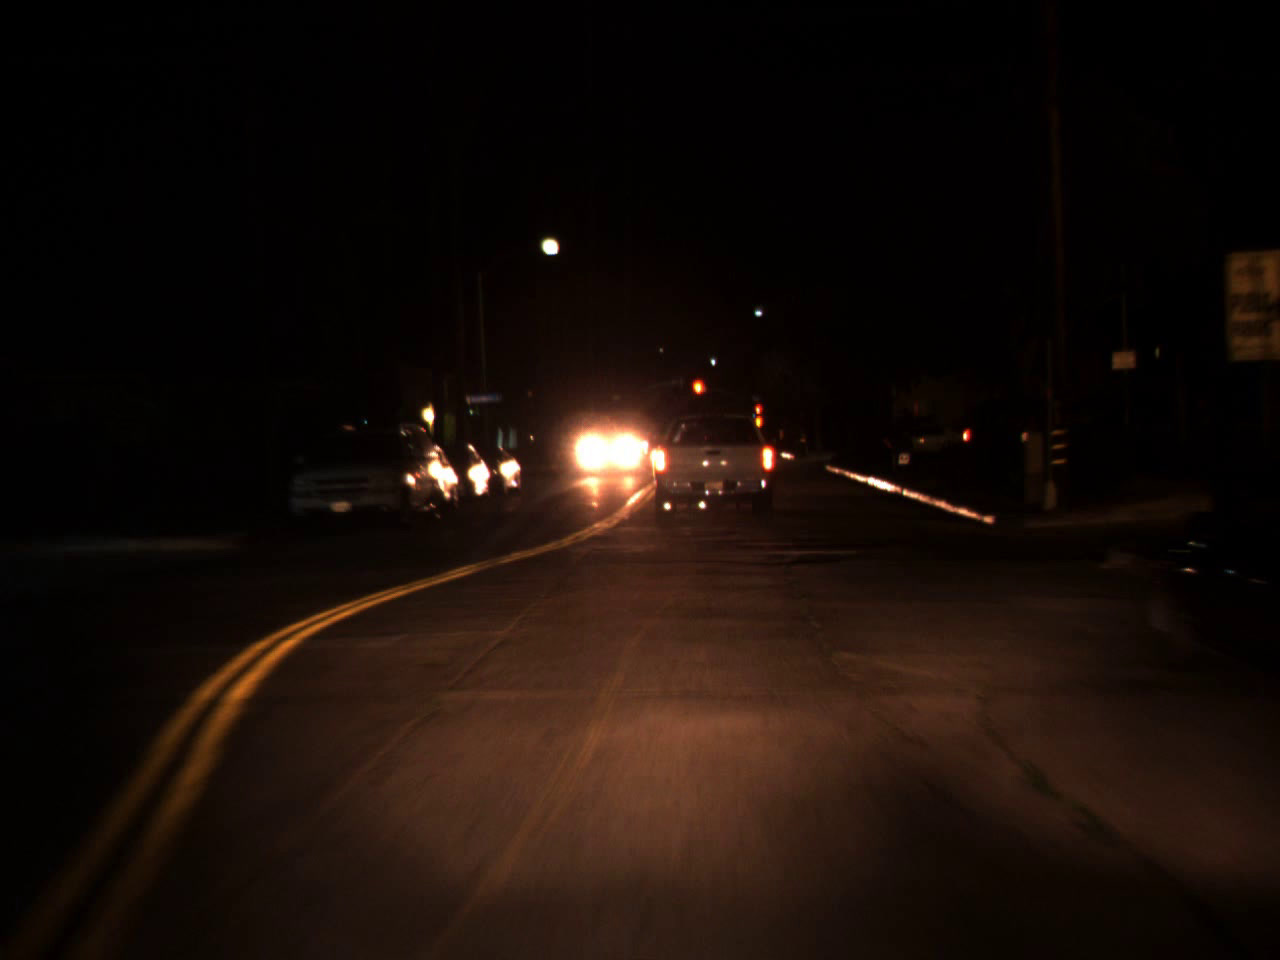stop: (690, 376, 706, 413), (751, 401, 764, 425)
